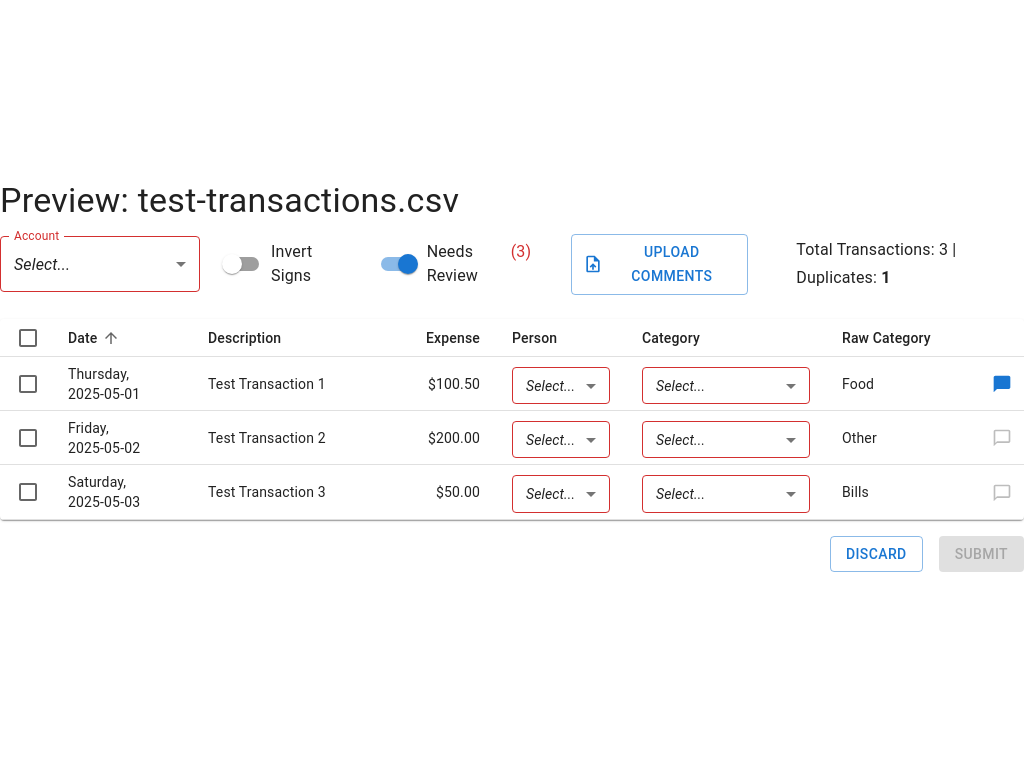
PreviewPage › opens "Add New Person" modal when selected
Expected: the text "Test Transaction 1" is shown, [192,357,384,411]
// Find the inline person select for the first row (the second "Select...")
Press the mouse on the 2nd dropdown "Select..." at [551, 386], box [526,378,575,394]
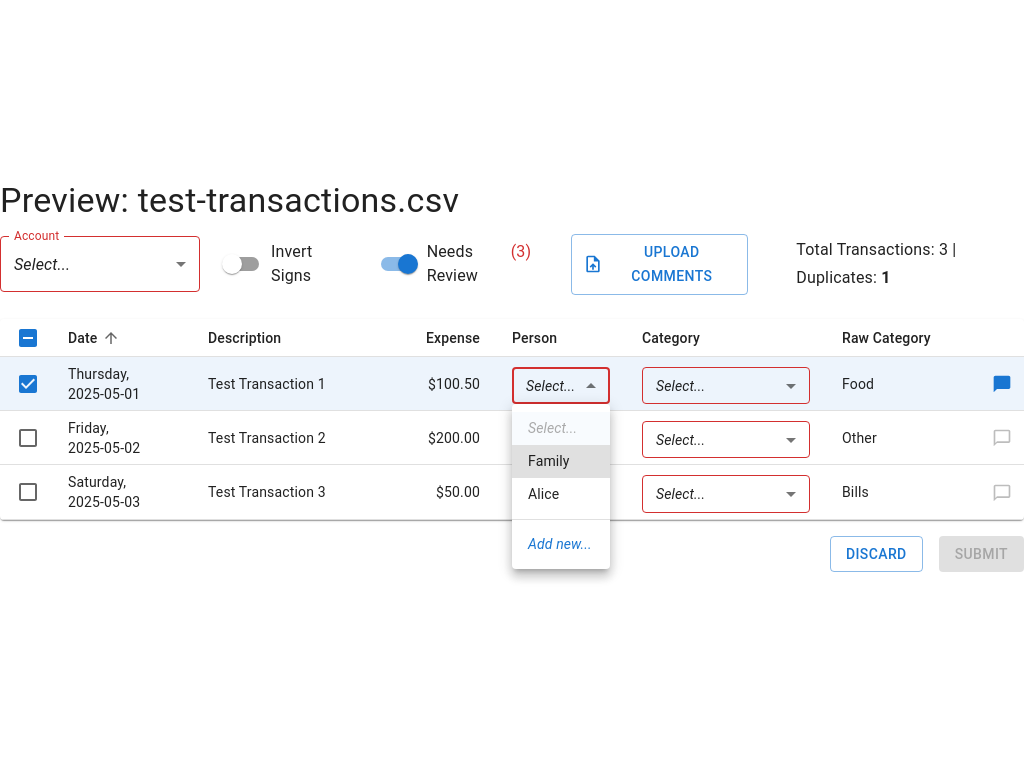
Click the option "Add new..." at [560, 544], box [528,536,592,552]
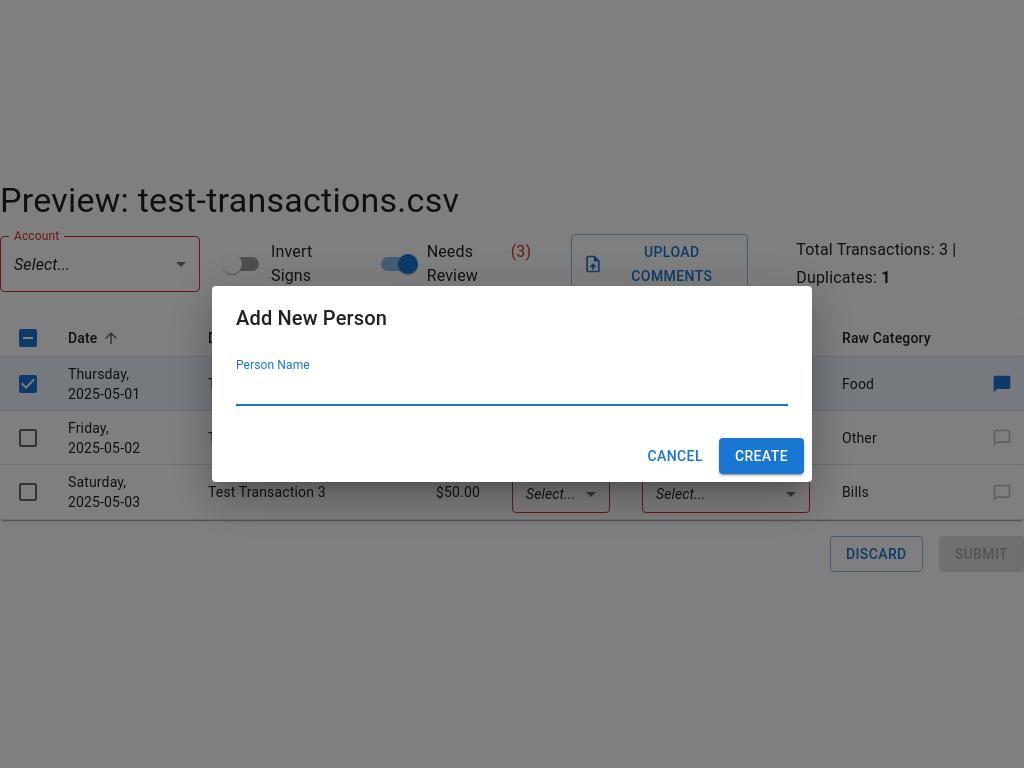
Expected: the heading "Add New Person" is shown, [236,306,387,330]
Expected: the field labelled "Person Name" is shown, [236,374,788,406]
